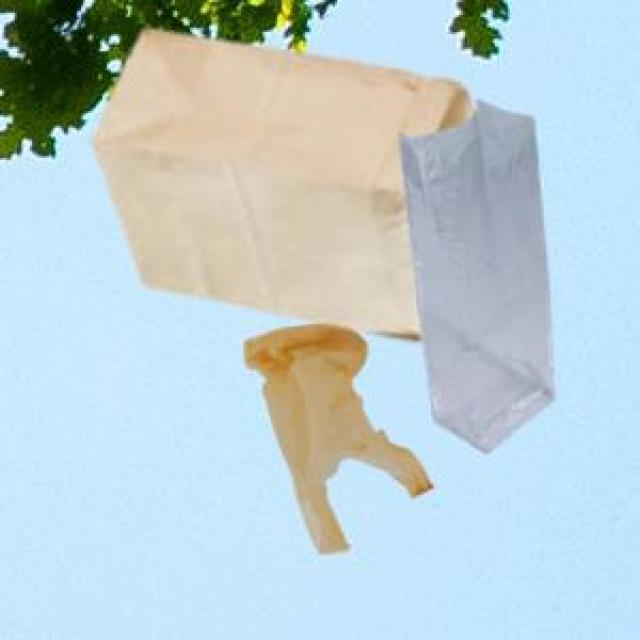paper: (90, 26, 472, 337)
